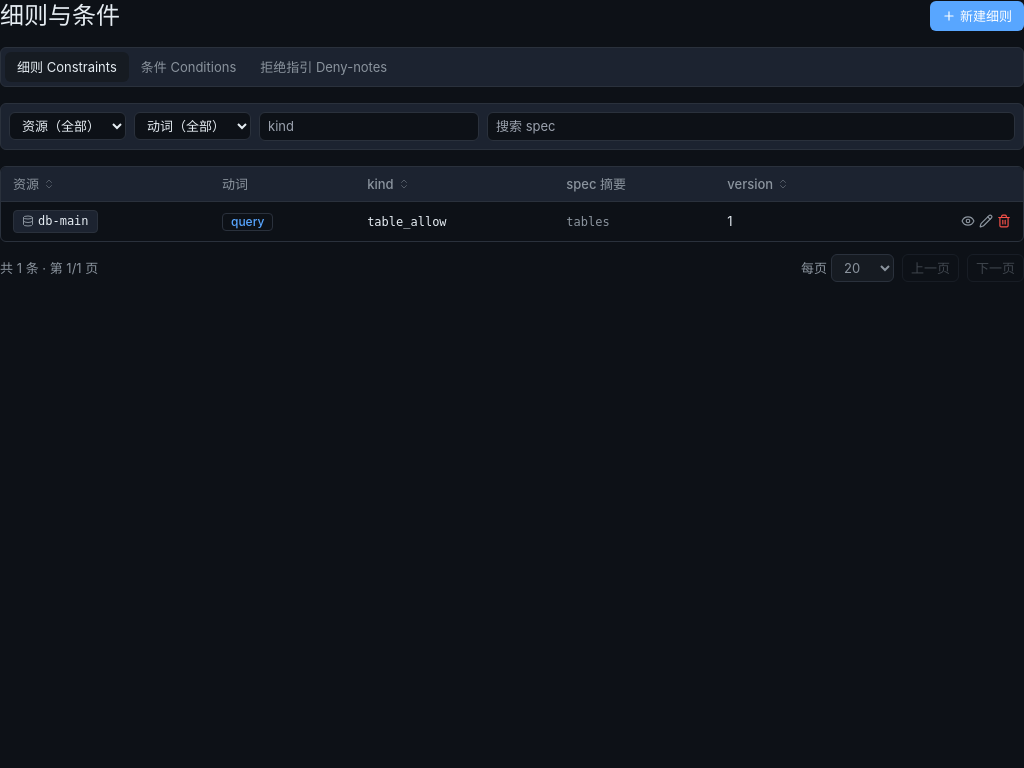
Test: ConstraintsPage — 乐观锁 409（编辑/删除） › delete conflict (409) surfaces "refresh & retry", view NOT mutated
The width and height of the screenshot is (1024, 768).
Expected: the text "table_allow" is shown, [367,215,447,229]
Step 1. Click the button named "删除" → coordinates (1004, 221), box [997,214,1011,228]
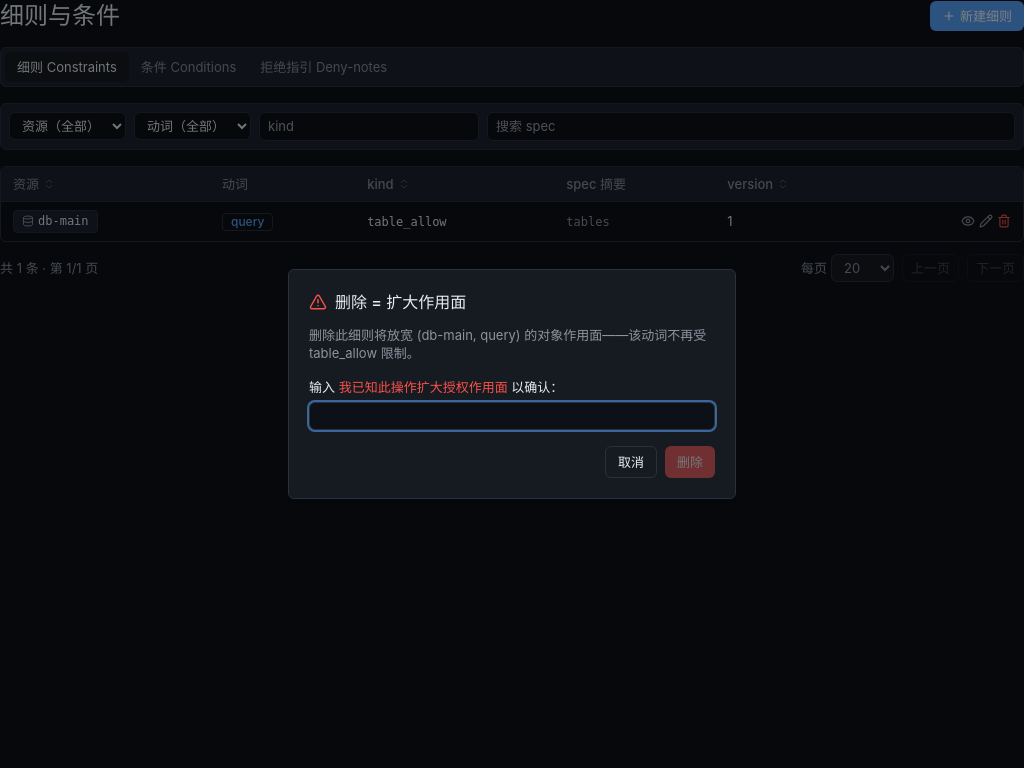
// ConfirmDialog requires the explicit checkbox-word for constraints.
Step 2. Type "我已知此操作扩大授权作用面" into the field → coordinates (512, 416), box [309,402,715,430]
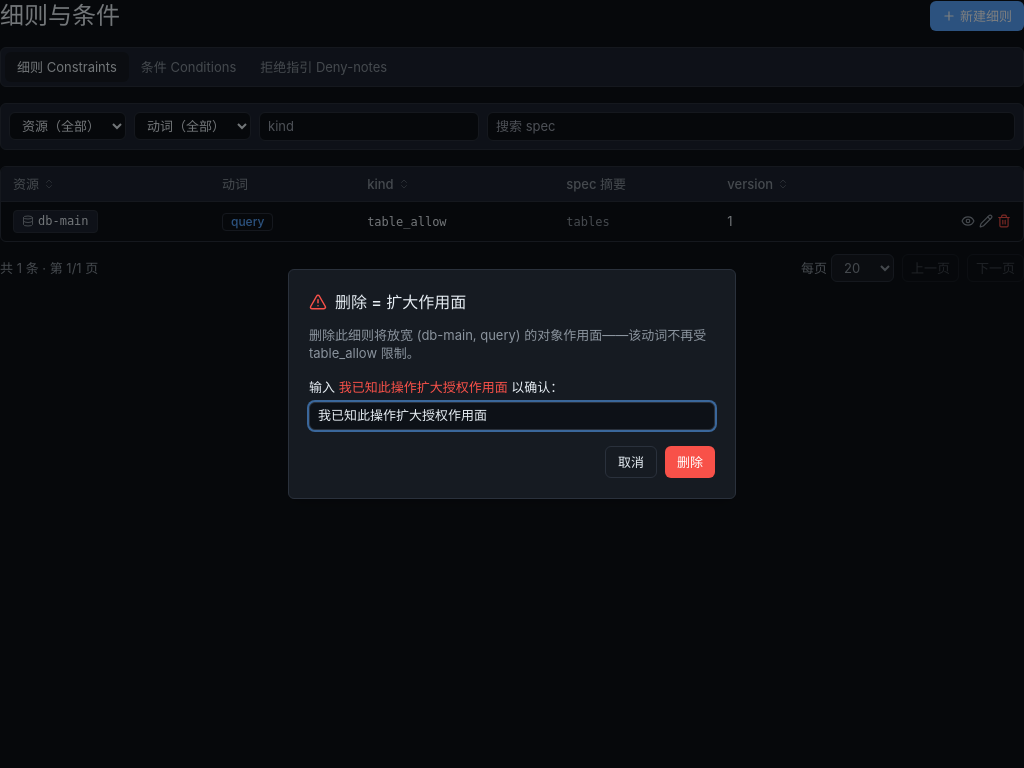
Step 3. Click the button "删除" → coordinates (690, 462), box [665,446,715,478]
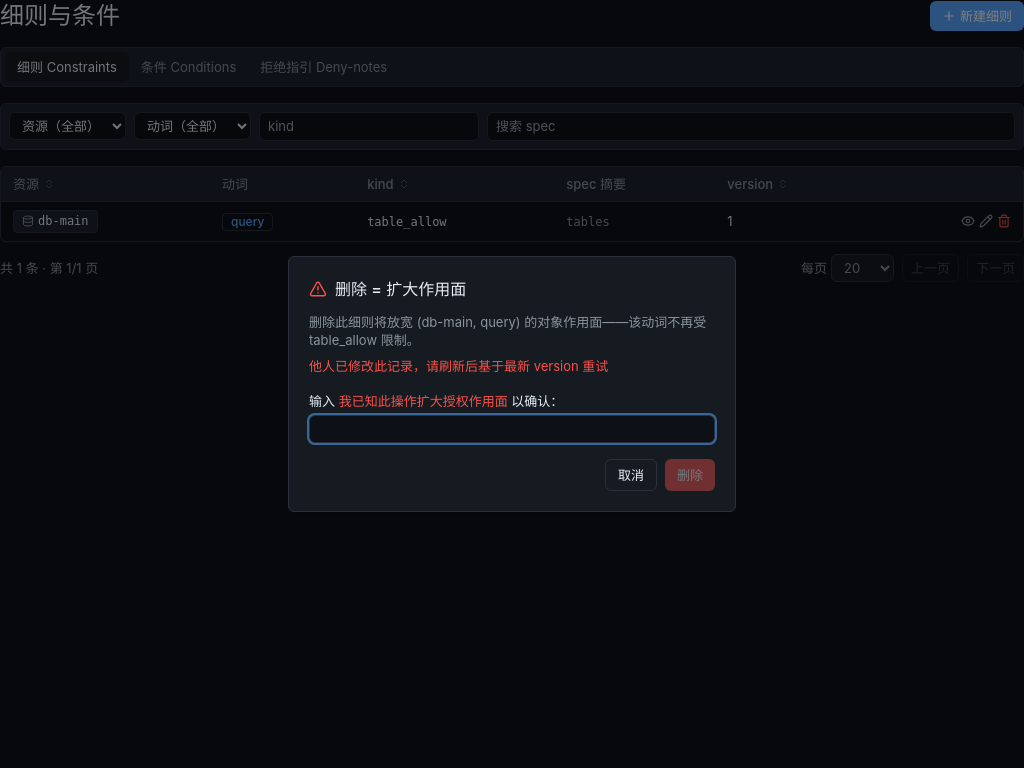
Expected: the text "table_allow" is shown, [367,215,447,229]
Expected: the text "他人已修改此记录，请刷新后基于最新 version 重试" is shown, [309,358,608,374]
